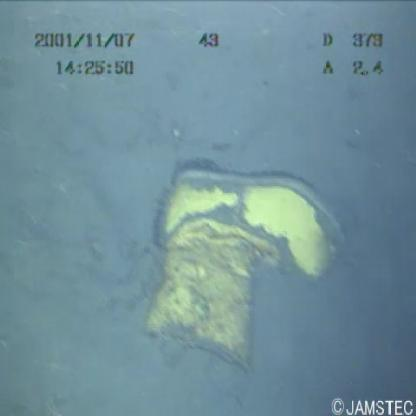Rác: (120, 141, 359, 384)
